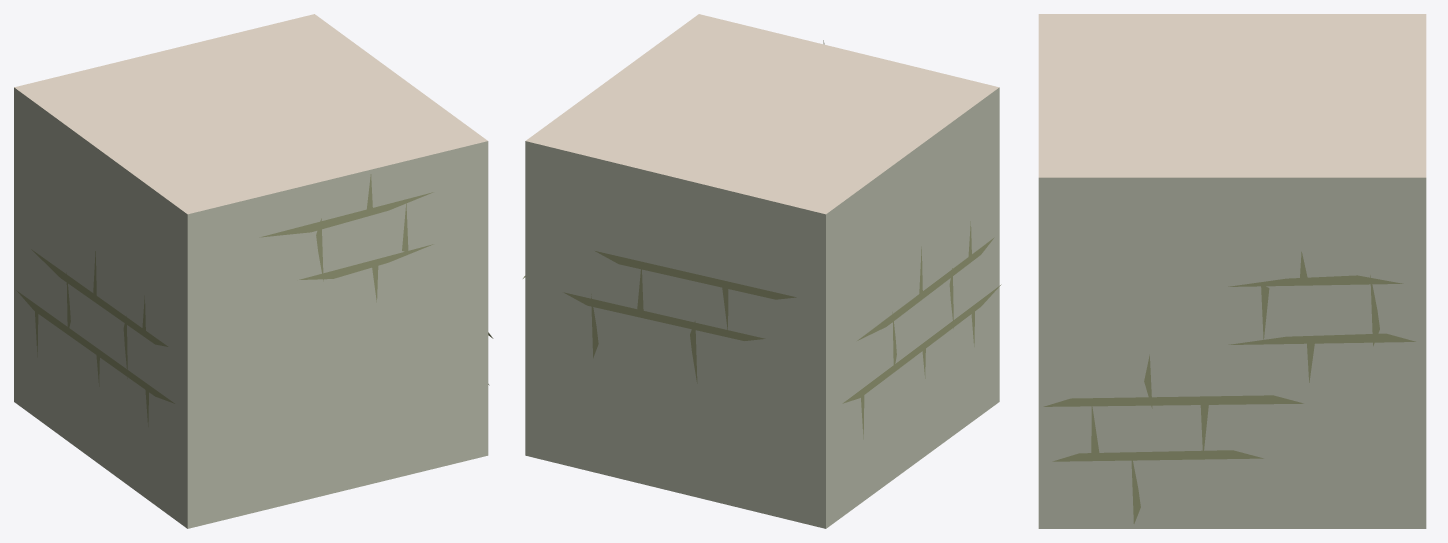
Rendered from base_block_5x5_fixed.fbx.
The picture shows the model from 3 angles, left to right: view 1: azimuth 30°, elevation 25°; view 2: azimuth 150°, elevation 25°; view 3: azimuth 270°, elevation 25°; orthographic projection. The views are drawn at different scales.
Parts seen in each view (by area): view 1: base_block_5x5_fixed; view 2: base_block_5x5_fixed; view 3: base_block_5x5_fixed.
Boxes of the visible parts, left/top/right/bottom form: base_block_5x5_fixed: left=14, top=14, right=493, bottom=528; base_block_5x5_fixed: left=523, top=14, right=1001, bottom=528; base_block_5x5_fixed: left=1038, top=14, right=1426, bottom=528.
Size of the model in its own units: 5.24 by 5.21 by 5.02.
